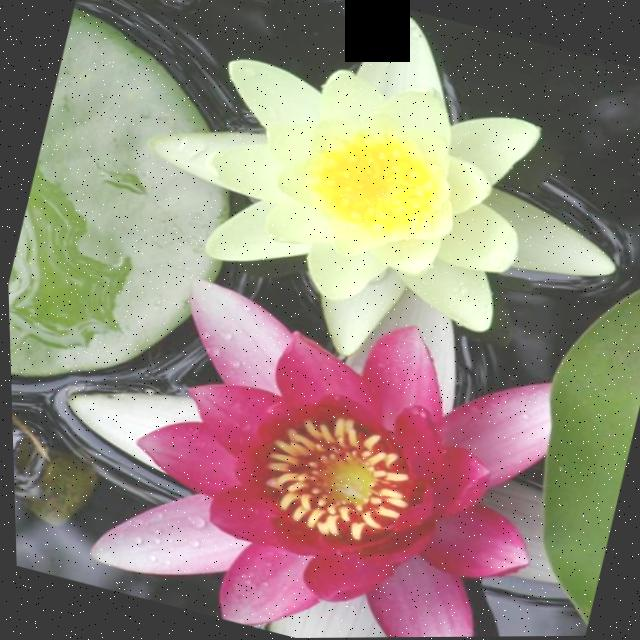water-lily: (5, 226, 579, 640), (120, 0, 622, 386)
